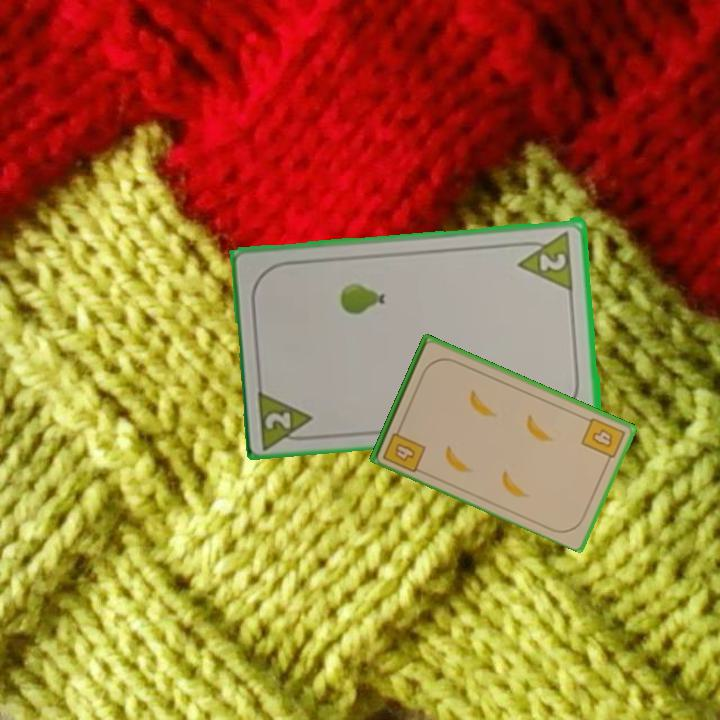2p: (254, 384, 319, 450), (514, 227, 577, 291)
4b: (577, 414, 628, 466), (379, 421, 428, 475)
